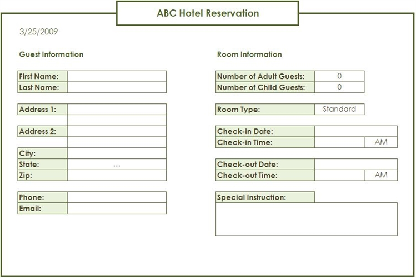textbox: (214, 199, 399, 238), (64, 132, 168, 151), (64, 188, 168, 206), (64, 78, 168, 95), (65, 144, 168, 161), (64, 112, 169, 128), (64, 123, 168, 139), (64, 156, 168, 172), (64, 167, 168, 183), (65, 199, 167, 215), (64, 69, 168, 84), (64, 102, 168, 117), (313, 123, 399, 139), (313, 157, 399, 171), (312, 68, 367, 84), (313, 167, 368, 183), (312, 100, 366, 116), (312, 78, 365, 94), (313, 134, 367, 149), (362, 166, 399, 184), (361, 133, 398, 149)
